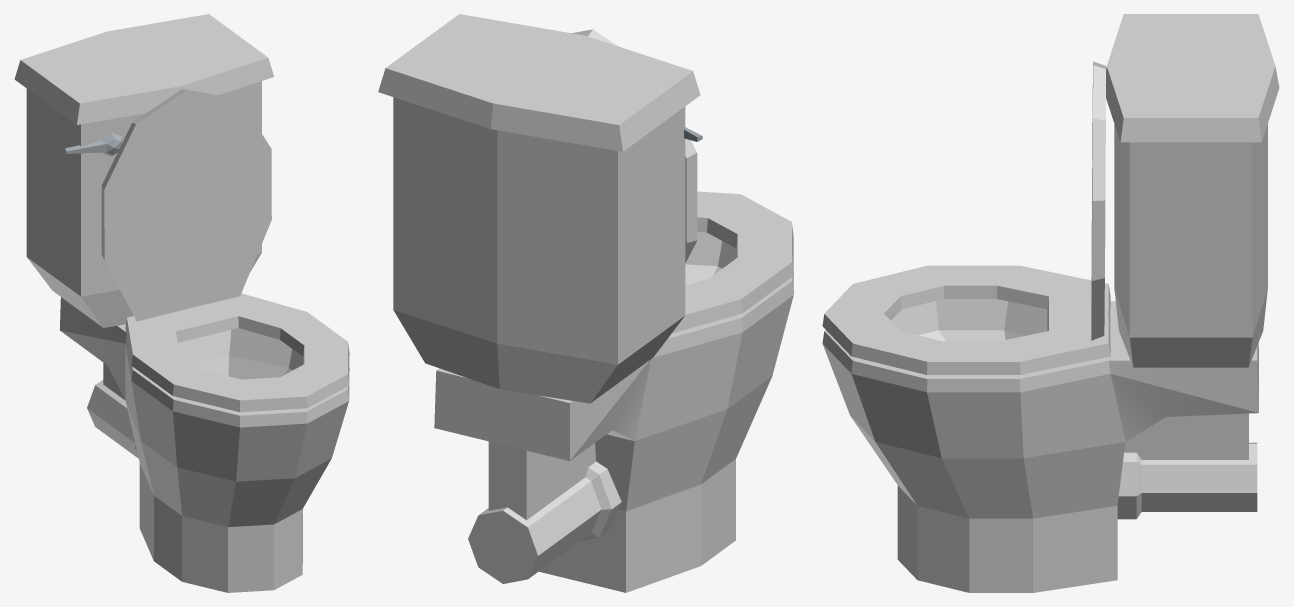
File: Toilet.fbx
The picture shows the model from 3 angles, left to right: view 1: azimuth 30°, elevation 25°; view 2: azimuth 150°, elevation 25°; view 3: azimuth 270°, elevation 25°; orthographic projection. The views are drawn at different scales.
Visible parts, largest first — view 1: Toilet; view 2: Toilet; view 3: Toilet.
Boxes of the visible parts, x1,y1,x2,y2 form: Toilet: [14, 14, 349, 592]; Toilet: [378, 14, 793, 592]; Toilet: [822, 14, 1279, 592].
Bounding box in the file's own units: 50.25 × 103 × 86.41.
1 material, 1 textured.
